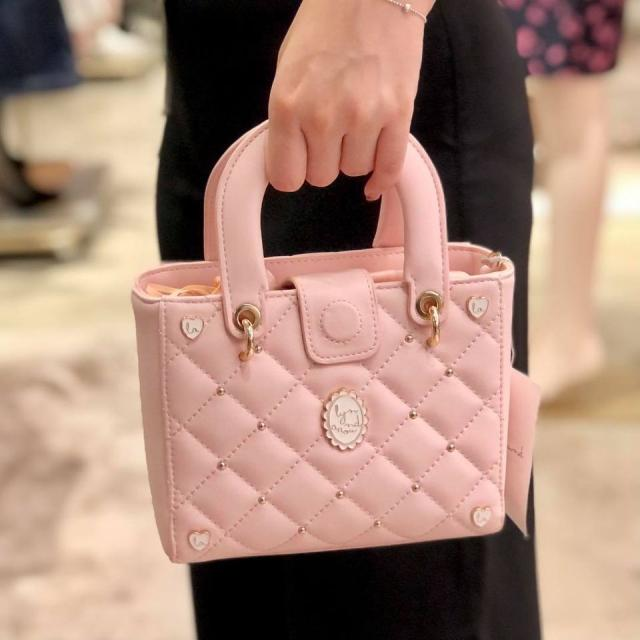Handbag: (125, 114, 542, 568)
